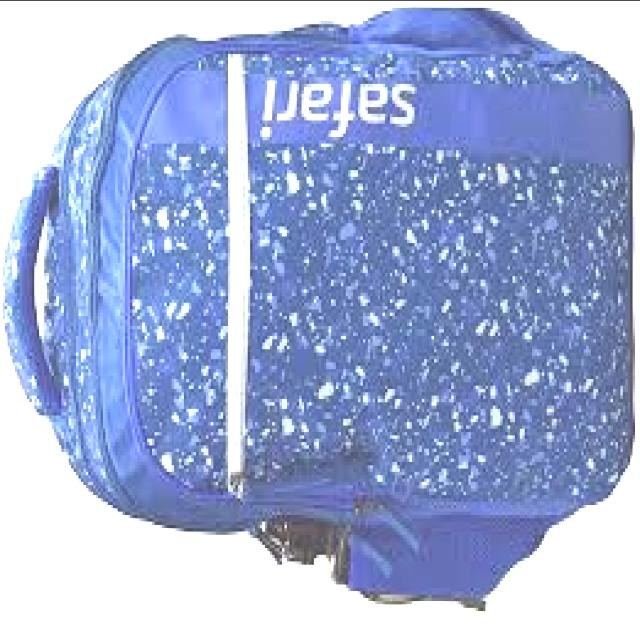backpack: (1, 8, 636, 615)
